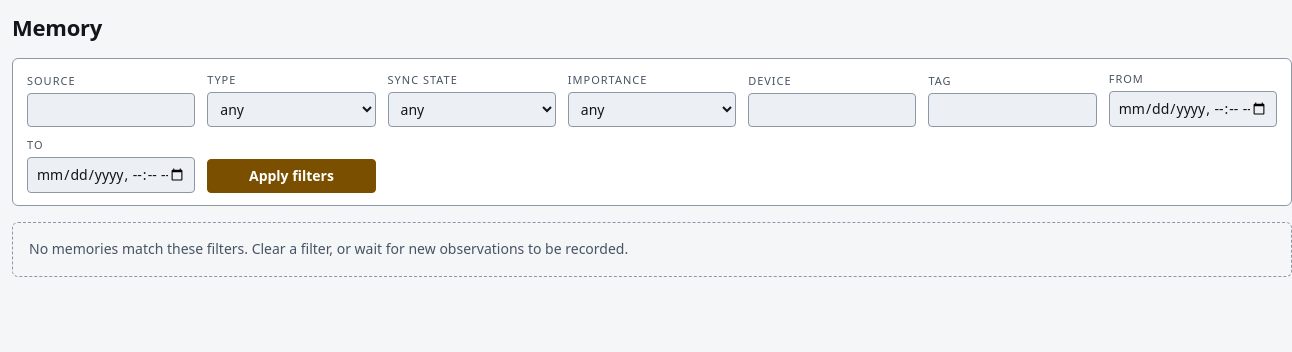
empty and error states
Expected: the text "No memories match" is shown, [29,239,628,258]
Click the button "Apply filters" at [291, 176], box [207,159,376,193]
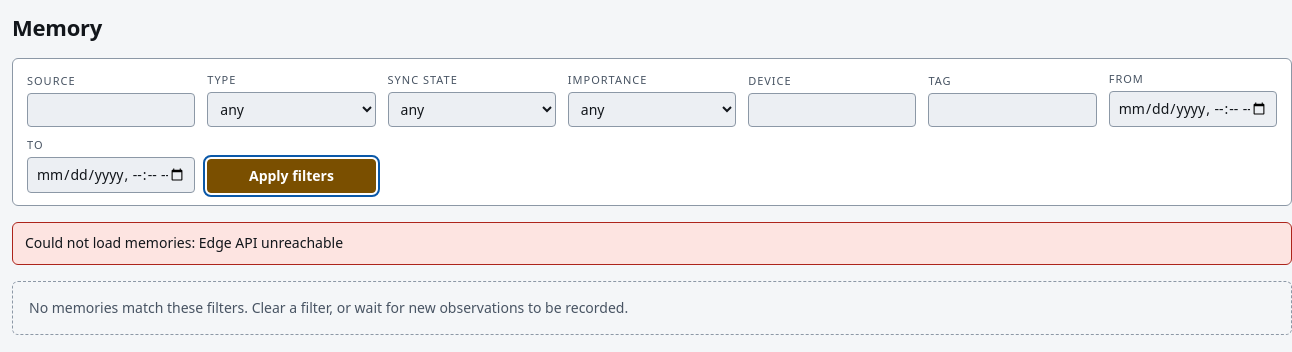
Result: the message shows "unreachable" at [199,233,343,252]
